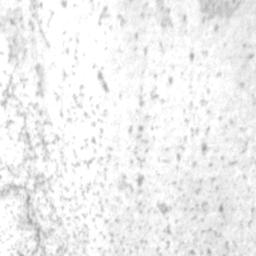Pitted surface: (0, 0, 256, 256), (90, 0, 240, 56), (224, 43, 256, 105)
